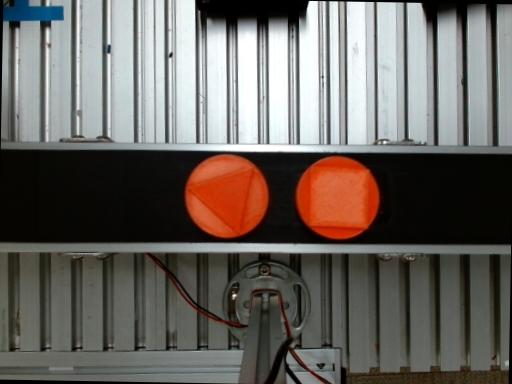Not_Square: (187, 166, 255, 237)
Orange_Waper: (296, 156, 379, 239), (185, 155, 267, 237)
Square: (309, 166, 370, 229)
